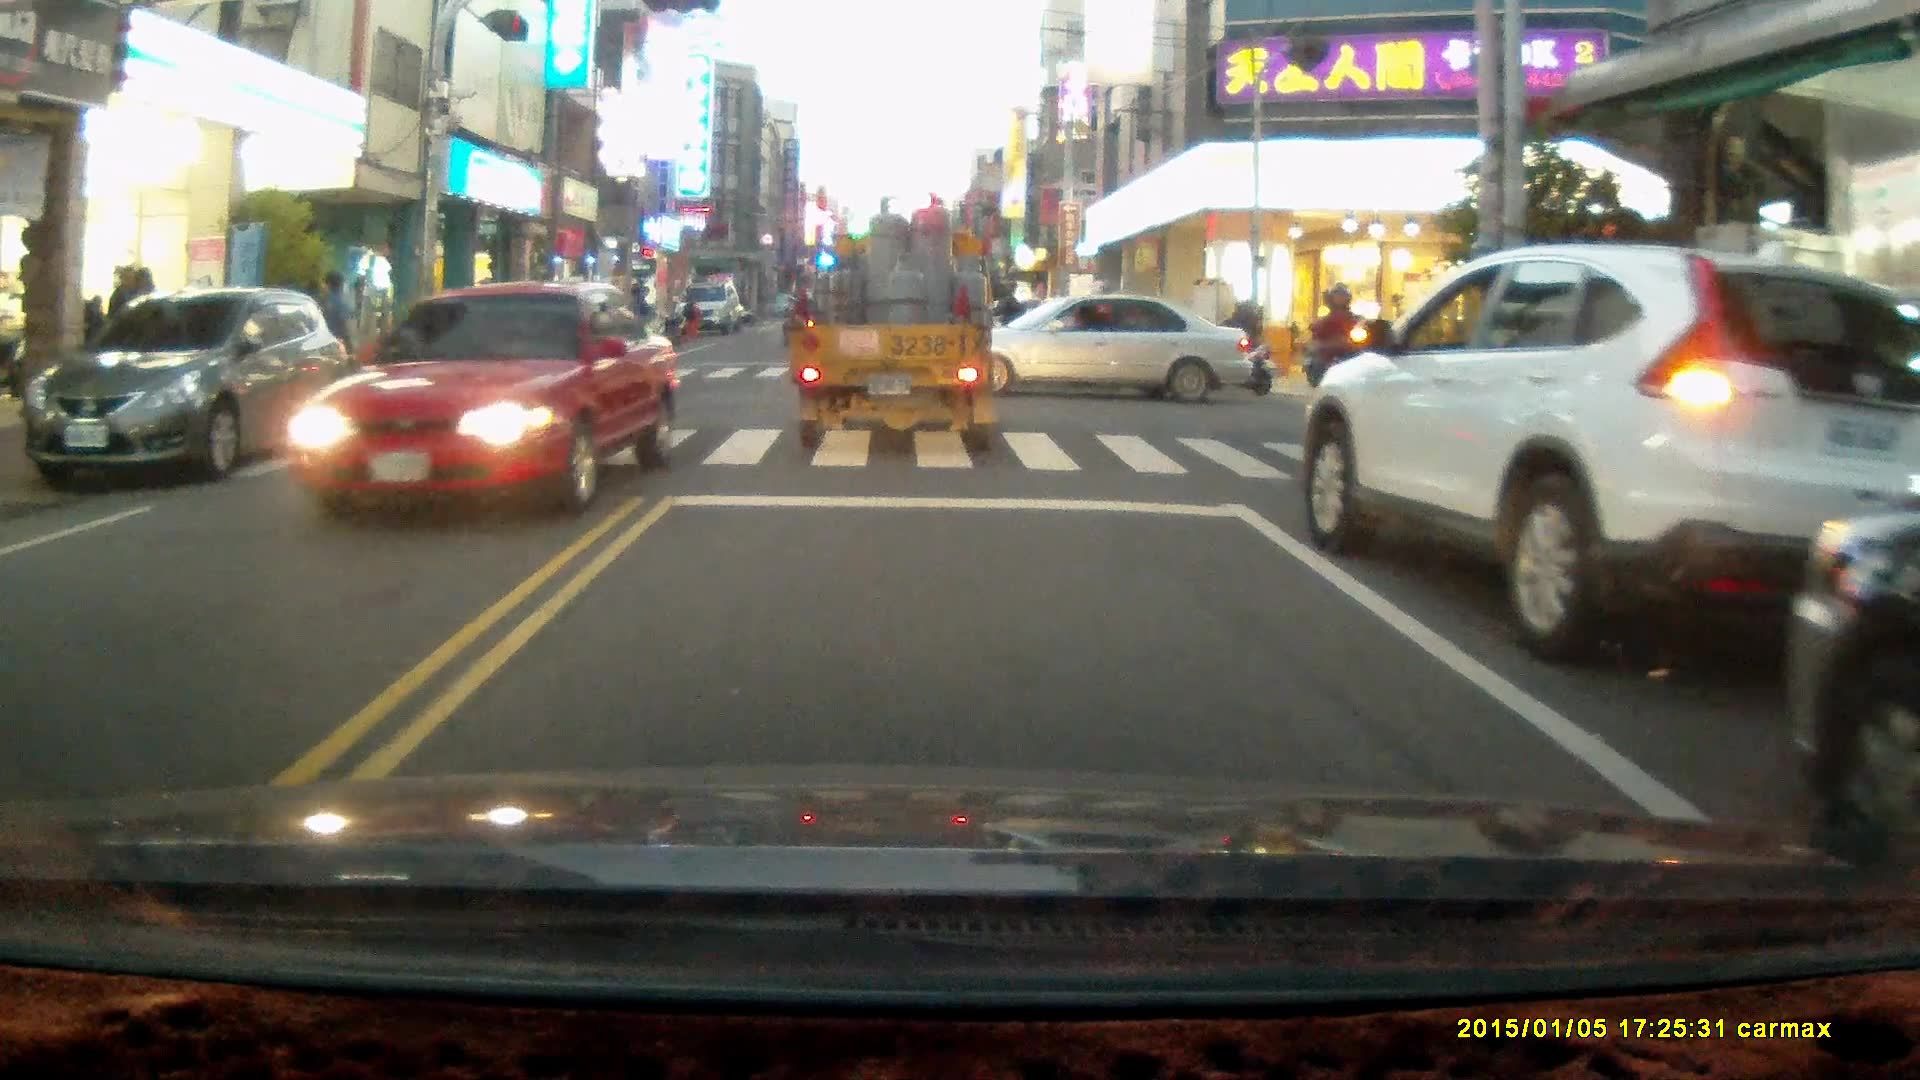pedestrian: (306, 269, 353, 392)
rider: (1298, 279, 1385, 455), (1182, 286, 1274, 395)
vehicle: (1296, 244, 1920, 672), (290, 281, 691, 517), (22, 286, 354, 490), (790, 192, 1002, 460), (930, 293, 1252, 409), (675, 284, 742, 336)
